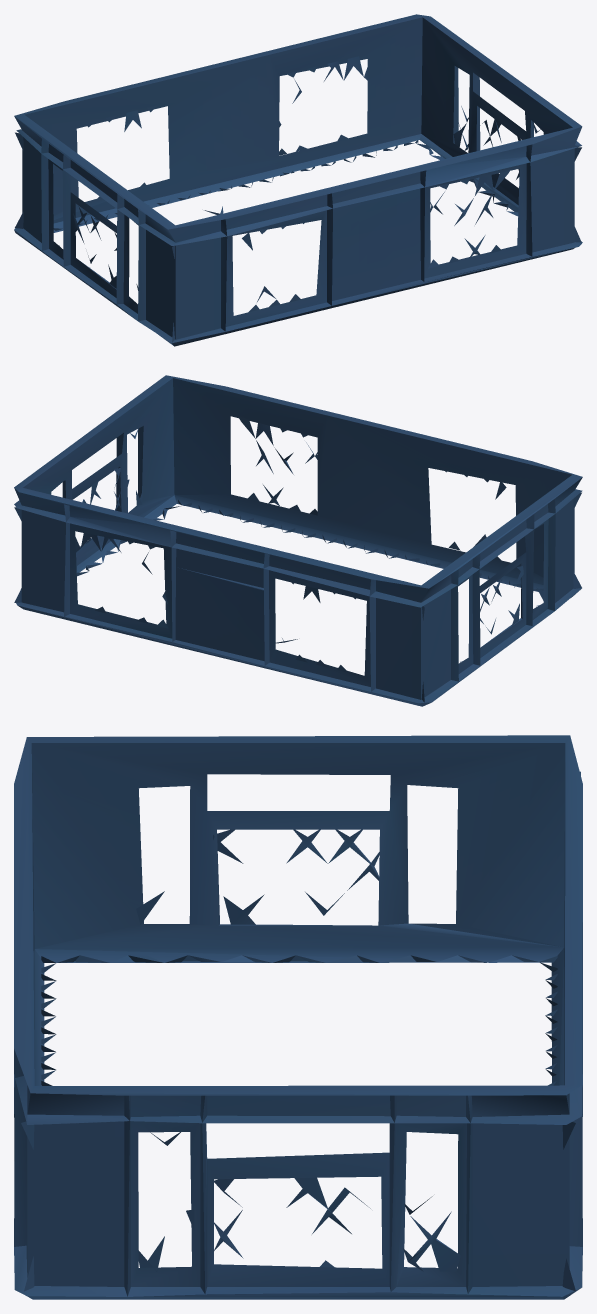
Rendered from tote.glb.
The picture shows the model from 3 angles, top to bottom: view 1: azimuth 30°, elevation 25°; view 2: azimuth 150°, elevation 25°; view 3: azimuth 270°, elevation 25°; orthographic projection. The views are drawn at different scales.
Visible parts, largest first — view 1: body; view 2: body; view 3: body.
Part boxes in pixels (<box>): body: <box>14,14,582,346</box>; body: <box>14,375,582,706</box>; body: <box>14,735,582,1299</box>.
Bounding box in the file's own units: 0.6051 × 0.1697 × 0.4051.
